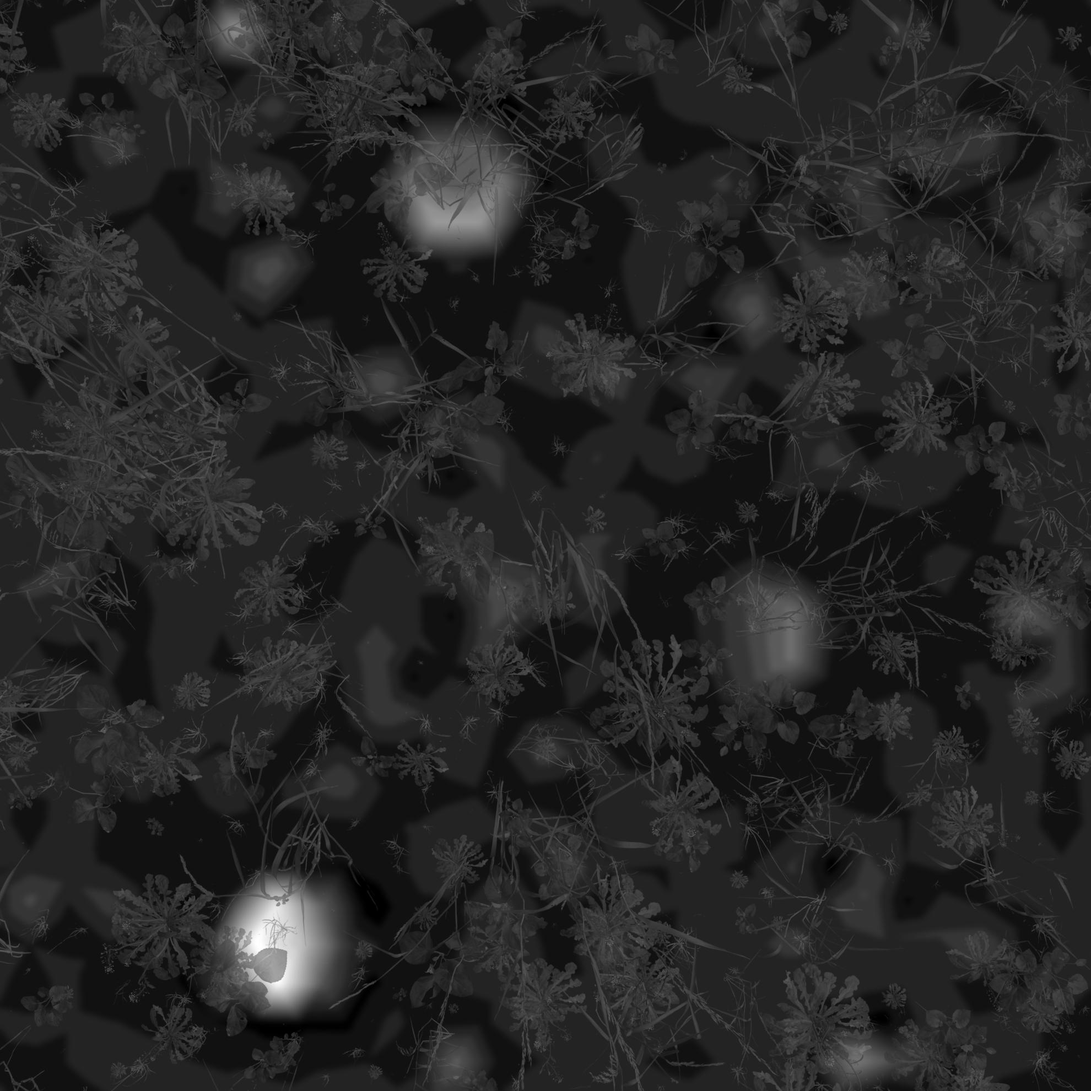landmine: (355, 99, 536, 275), (206, 868, 362, 1031), (711, 560, 844, 696)
